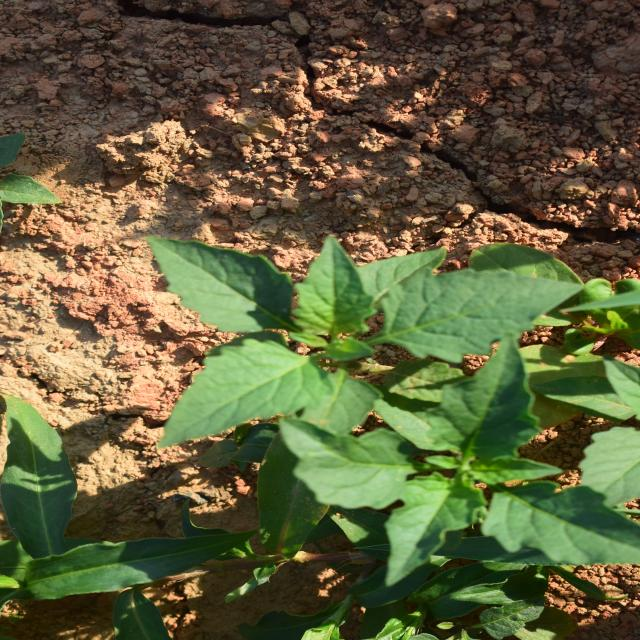Black_nightshade: (165, 120, 408, 552), (68, 277, 298, 599)
